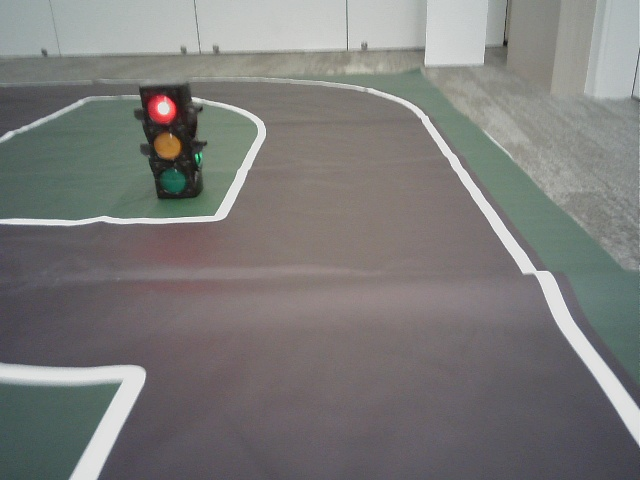red: (145, 88, 189, 195)
